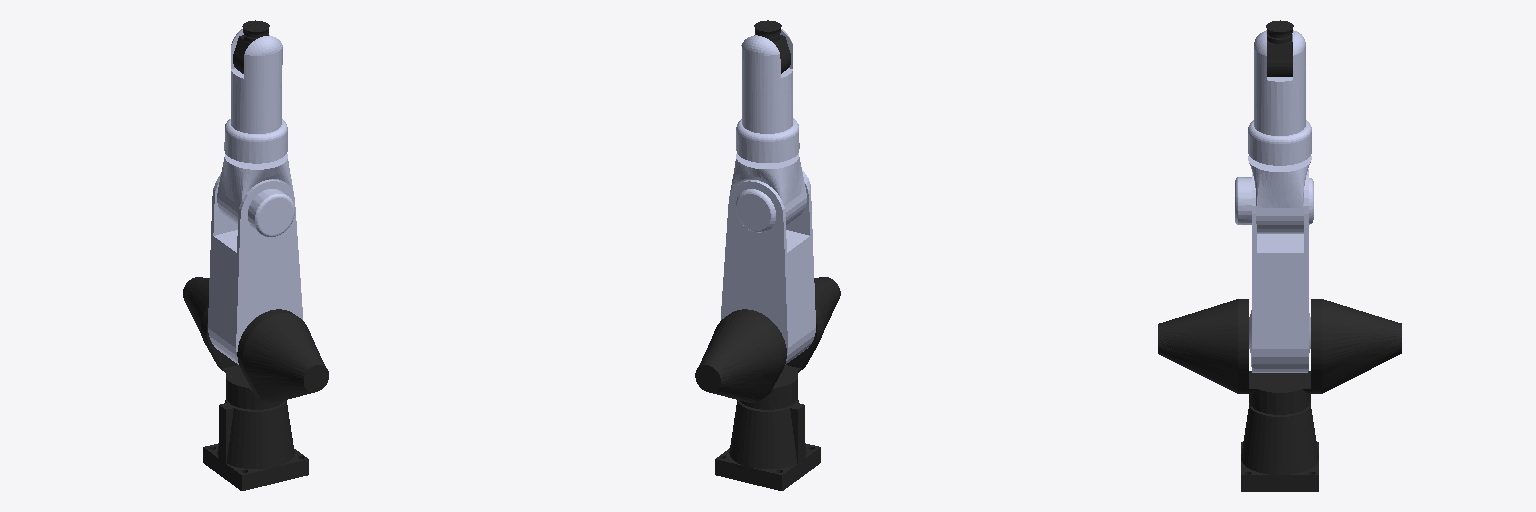
The robot description file, URDF, robot "CRSA465":
<?xml version="1.0" encoding="utf-8"?>
<!-- This URDF was automatically created by SolidWorks to URDF Exporter! Originally created by [author] ([email redacted]) 
     Commit Version: 1.6.0-4-g7f85cfe  Build Version: 1.6.7995.38578
     For more information, please see http://wiki.ros.org/sw_urdf_exporter -->
<robot
  name="CRSA465">
  <link
    name="eslabon_base">
    <visual>
      <origin
        xyz="0 0 0"
        rpy="0 0 0" />
      <geometry>
        <mesh
          filename="package://CRSA465/meshes/eslabon_base.STL" />
      </geometry>
      <material
        name="">
        <color
          rgba="0.2 0.2 0.2 1" />
      </material>
    </visual>
    <collision>
      <origin
        xyz="0 0 0"
        rpy="0 0 0" />
      <geometry>
        <mesh
          filename="package://CRSA465/meshes/eslabon_base.STL" />
      </geometry>
    </collision>
  </link>

  <link
    name="eslabon_1">
    <inertial>
      <origin
        xyz="-3.6863E-08 5.1363E-08 0.12206"
        rpy="0 0 0" />
      <mass
        value="7.6604" />
      <inertia
        ixx="0.17917"
        ixy="-1.131E-07"
        ixz="-7.5108E-08"
        iyy="0.033062"
        iyz="-1.514E-08"
        izz="0.16191" />
    </inertial>
    <visual>
      <origin
        xyz="0 0 0"
        rpy="0 0 0" />
      <geometry>
        <mesh
          filename="package://CRSA465/meshes/eslabon_1.STL" />
      </geometry>
      <material
        name="">
        <color
          rgba="0.2 0.2 0.2 1" />
      </material>
    </visual>
    <collision>
      <origin
        xyz="0 0 0"
        rpy="0 0 0" />
      <geometry>
        <mesh
          filename="package://CRSA465/meshes/eslabon_1.STL" />
      </geometry>
    </collision>
  </link>
  <joint
    name="junta_0_1"
    type="revolute">
    <origin
      xyz="0 0 0.17"
      rpy="0 0 0" />
    <parent
      link="eslabon_base" />
    <child
      link="eslabon_1" />
    <axis
      xyz="0 0 1" />
    <limit
      lower="-3.0543"
      upper="3.0543"
      effort="39.5"
      velocity="3.14" />
    <calibration
      rising="3.0543" />
  </joint>

  <link
    name="eslabon_2">
    <inertial>
      <origin
        xyz="-2.7756E-17 0.0026097 0.092888"
        rpy="0 0 0" />
      <mass
        value="4.9089" />
      <inertia
        ixx="0.062922"
        ixy="-1.0564E-18"
        ixz="-3.0636E-18"
        iyy="0.065705"
        iyz="-0.0027173"
        izz="0.014194" />
    </inertial>
    <visual>
      <origin
        xyz="0 0 0"
        rpy="0 0 0" />
      <geometry>
        <mesh
          filename="package://CRSA465/meshes/eslabon_2.STL" />
      </geometry>
      <material
        name="">
        <color
          rgba="0.79216 0.81961 0.93333 1" />
      </material>
    </visual>
    <collision>
      <origin
        xyz="0 0 0"
        rpy="0 0 0" />
      <geometry>
        <mesh
          filename="package://CRSA465/meshes/eslabon_2.STL" />
      </geometry>
    </collision>
  </link>
  <joint
    name="junta_1_2"
    type="revolute">
    <origin
      xyz="0 8.00000000000384E-05 0.16"
      rpy="0 0 0" />
    <parent
      link="eslabon_1" />
    <child
      link="eslabon_2" />
    <axis
      xyz="0 1 0" />
    <limit
      lower="-1.5708"
      upper="1.5708"
      effort="66.08"
      velocity="3.14" />
    <calibration
      rising="0.17453" />
  </joint>

  <link
    name="eslabon_3">
    <inertial>
      <origin
        xyz="6.0536E-08 -2.6493E-08 0.0085436"
        rpy="0 0 0" />
      <mass
        value="0.84552" />
      <inertia
        ixx="0.0011491"
        ixy="1.4518E-07"
        ixz="-9.5319E-10"
        iyy="0.0013629"
        iyz="4.2164E-10"
        izz="0.0011924" />
    </inertial>
    <visual>
      <origin
        xyz="0 0 0"
        rpy="0 0 0" />
      <geometry>
        <mesh
          filename="package://CRSA465/meshes/eslabon_3.STL" />
      </geometry>
      <material
        name="">
        <color
          rgba="0.79216 0.81961 0.93333 1" />
      </material>
    </visual>
    <collision>
      <origin
        xyz="0 0 0"
        rpy="0 0 0" />
      <geometry>
        <mesh
          filename="package://CRSA465/meshes/eslabon_3.STL" />
      </geometry>
    </collision>
  </link>
  <joint
    name="junta_2_3"
    type="revolute">
    <origin
      xyz="0 -9.99999999999057E-05 0.305"
      rpy="0 0 0" />
    <parent
      link="eslabon_2" />
    <child
      link="eslabon_3" />
    <axis
      xyz="0 -1 0" />
    <limit
      lower="-1.9199"
      upper="1.9199"
      effort="39.5"
      velocity="3.14" />
    <calibration
      rising="-1.0472" />
  </joint>

  <link
    name="eslabon_4">
    <inertial>
      <origin
        xyz="2.7756E-17 2.7756E-17 0.093313"
        rpy="0 0 0" />
      <mass
        value="2.1712" />
      <inertia
        ixx="0.011152"
        ixy="4.346E-12"
        ixz="-2.1446E-19"
        iyy="0.010864"
        iyz="-3.4711E-18"
        izz="0.0040383" />
    </inertial>
    <visual>
      <origin
        xyz="0 0 0"
        rpy="0 0 0" />
      <geometry>
        <mesh
          filename="package://CRSA465/meshes/eslabon_4.STL" />
      </geometry>
      <material
        name="">
        <color
          rgba="0.79216 0.81961 0.93333 1" />
      </material>
    </visual>
    <collision>
      <origin
        xyz="0 0 0"
        rpy="0 0 0" />
      <geometry>
        <mesh
          filename="package://CRSA465/meshes/eslabon_4.STL" />
      </geometry>
    </collision>
  </link>
  <joint
    name="junta_3_4"
    type="revolute">
    <origin
      xyz="0 0 0.116"
      rpy="0 0 0" />
    <parent
      link="eslabon_3" />
    <child
      link="eslabon_4" />
    <axis
      xyz="0 0 1" />
    <limit
      lower="-3.1416"
      upper="3.1416"
      effort="6.89"
      velocity="2.99" />
    <calibration
      rising="3.14" />
  </joint>

  <link
    name="eslabon_5">
    <inertial>
      <origin
        xyz="1.3878E-17 0 0.0094718"
        rpy="0 0 0" />
      <mass
        value="0.37918" />
      <inertia
        ixx="0.00037262"
        ixy="-1.9242E-20"
        ixz="4.385E-20"
        iyy="0.00044766"
        iyz="-1.4316E-19"
        izz="0.00025382" />
    </inertial>
    <visual>
      <origin
        xyz="0 0 0"
        rpy="0 0 0" />
      <geometry>
        <mesh
          filename="package://CRSA465/meshes/eslabon_5.STL" />
      </geometry>
      <material
        name="">
        <color
          rgba="0.2 0.2 0.2 1" />
      </material>
    </visual>
    <collision>
      <origin
        xyz="0 0 0"
        rpy="0 0 0" />
      <geometry>
        <mesh
          filename="package://CRSA465/meshes/eslabon_5.STL" />
      </geometry>
    </collision>
  </link>
  <joint
    name="junta_4_5"
    type="revolute">
    <origin
      xyz="0 0 0.214"
      rpy="0 0 0" />
    <parent
      link="eslabon_4" />
    <child
      link="eslabon_5" />
    <axis
      xyz="0 -1 0" />
    <limit
      lower="-1.8326"
      upper="1.8326"
      effort="6.82"
      velocity="3.02" />
    <calibration
      rising="0.43633" />
  </joint>

  <link
    name="eslabon_6">
    <inertial>
      <origin
        xyz="0 0 0.007846"
        rpy="0 0 0" />
      <mass
        value="0.035974" />
      <inertia
        ixx="7.4902E-06"
        ixy="-6.0257E-37"
        ixz="-1.1379E-21"
        iyy="7.4902E-06"
        iyz="3.3128E-21"
        izz="1.356E-05" />
    </inertial>
    <visual>
      <origin
        xyz="0 0 0"
        rpy="0 0 0" />
      <geometry>
        <mesh
          filename="package://CRSA465/meshes/eslabon_6.STL" />
      </geometry>
      <material
        name="">
        <color
          rgba="0.2 0.2 0.2 1" />
      </material>
    </visual>
    <collision>
      <origin
        xyz="0 0 0"
        rpy="0 0 0" />
      <geometry>
        <mesh
          filename="package://CRSA465/meshes/eslabon_6.STL" />
      </geometry>
    </collision>
  </link>
  <joint
    name="junta_5_6"
    type="revolute">
    <origin
      xyz="0 0 0.0635000000000001"
      rpy="0 0 0" />
    <parent
      link="eslabon_5" />
    <child
      link="eslabon_6" />
    <axis
      xyz="0 0 1" />
    <limit
      lower="-3.1416"
      upper="3.1416"
      effort="2.5"
      velocity="2.99" />
    <calibration
      rising="3.14" />
  </joint>

  <!-- Efector final del CRS A465 -->
  <link name="ee_link"/>

  <joint name="junta_ee" type="fixed">
    <parent link="eslabon_6"/>
    <child link="ee_link"/>
    <origin xyz="0 0 0.05" rpy="0 0 0"/> <!-- ajusta el offset según la herramienta real -->
  </joint>
  
  <ros2_control name="CRSA465" type="system">
  <hardware>
  <plugin>crsa465_hw_interface/CRSA465Hardware</plugin>
    <param name="port">/dev/pts/7</param>
    <param name="baudrate">115200</param>
    <param name="ticks_to_rad">0.00003141593</param>
  </hardware>

  <joint name="junta_0_1">
    <command_interface name="position"/>
    <state_interface name="position"/>
  </joint>
  <joint name="junta_1_2">
    <command_interface name="position"/>
    <state_interface name="position"/>
  </joint>
  <joint name="junta_2_3">
    <command_interface name="position"/>
    <state_interface name="position"/>
  </joint>
  <joint name="junta_3_4">
    <command_interface name="position"/>
    <state_interface name="position"/>
  </joint>
  <joint name="junta_4_5">
    <command_interface name="position"/>
    <state_interface name="position"/>
  </joint>
  <joint name="junta_5_6">
    <command_interface name="position"/>
    <state_interface name="position"/>
  </joint>
</ros2_control>
</robot>

--- What the picture shows (computed from the rendered views, not written in the file) ---
Views: 3 orthographic renders of the robot side by side, from view 1: azimuth 30°, elevation 25°; view 2: azimuth 150°, elevation 25°; view 3: azimuth 270°, elevation 25°.
Robot: CRSA465 — 8 links, 7 joints (6 revolute, 1 fixed); root link eslabon_base; default pose: every joint at zero.
Visible links, largest first — view 1: eslabon_2, eslabon_1, eslabon_base, eslabon_4, eslabon_3; view 2: eslabon_2, eslabon_1, eslabon_base, eslabon_4, eslabon_3; view 3: eslabon_1, eslabon_2, eslabon_4, eslabon_base, eslabon_3, eslabon_5.
Boxes of the visible links, box(x1,y1,x2,y2) form: eslabon_2: box(208, 174, 302, 364); eslabon_1: box(183, 277, 328, 409); eslabon_base: box(203, 400, 308, 490); eslabon_4: box(224, 29, 287, 163); eslabon_3: box(217, 154, 294, 224); eslabon_2: box(721, 170, 815, 364); eslabon_1: box(695, 277, 840, 409); eslabon_base: box(715, 400, 820, 490); eslabon_4: box(736, 29, 799, 162); eslabon_3: box(729, 153, 806, 224); eslabon_1: box(1158, 299, 1401, 414); eslabon_2: box(1235, 169, 1313, 372); eslabon_4: box(1248, 30, 1311, 165); eslabon_base: box(1241, 403, 1318, 491); eslabon_3: box(1248, 156, 1311, 233); eslabon_5: box(1267, 34, 1292, 76).
Bounding box of the posed robot: 0.1687 × 0.5138 × 1.04 m (x, y, z).
7 mesh visuals loaded from 7 distinct referenced files (7 binary STL).
